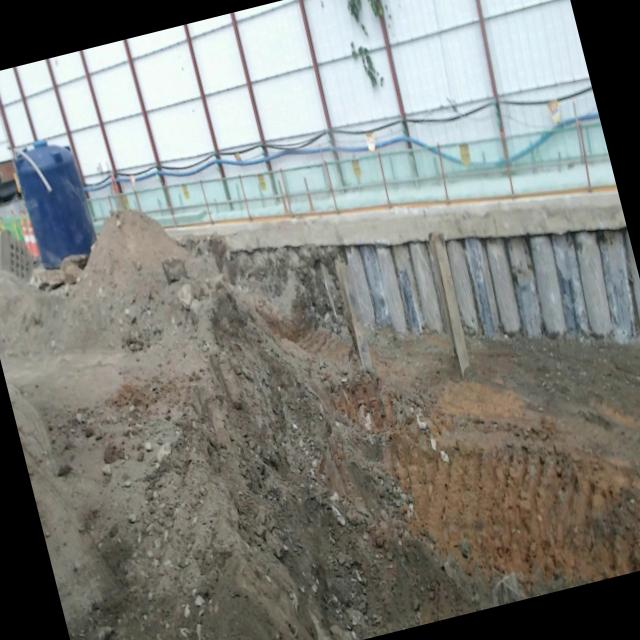white-sand: (0, 210, 640, 640)
